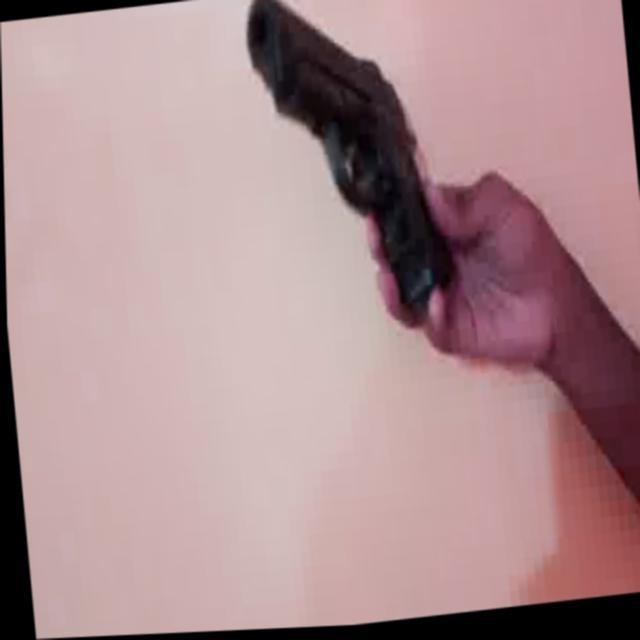weapon: (240, 0, 466, 347)
